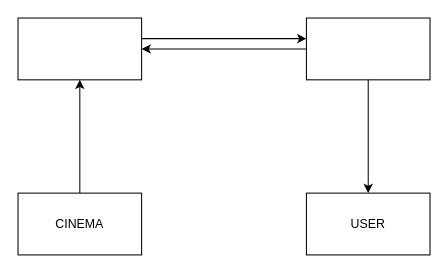
The diagram is 448 pixels wide and 273 high, and some of its shapes have lost their labels. Each missing label, with the centre of its shape:
"RESERVATION" belongs at pixel 367 48.
"SCREENING" belongs at pixel 79 48.
